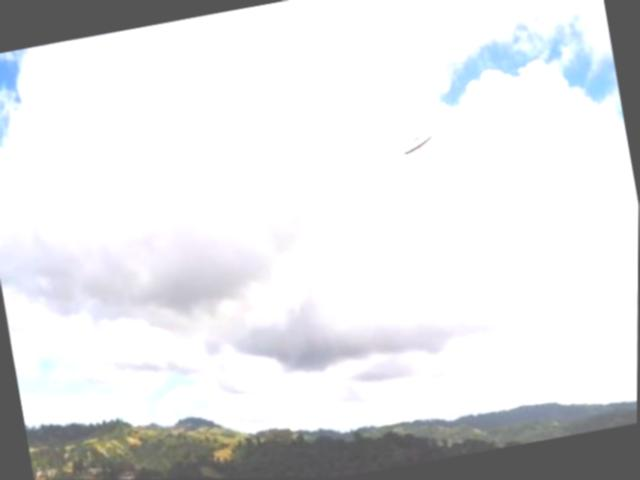uav: (395, 127, 442, 159)
